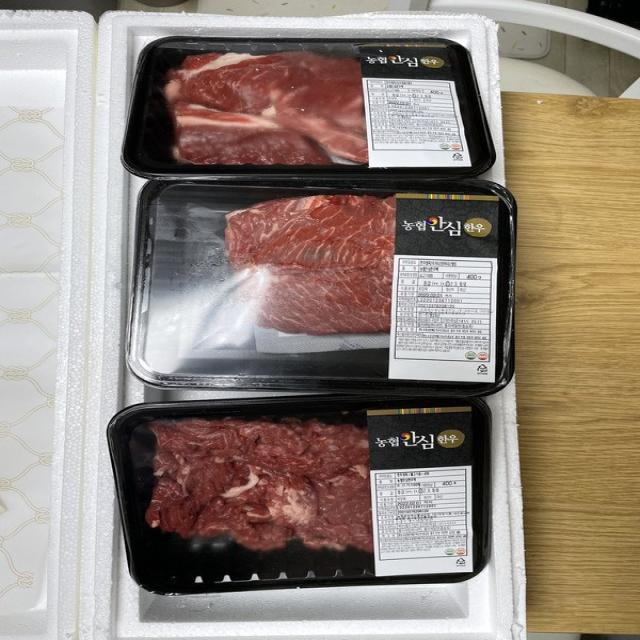beef: (187, 188, 496, 376), (159, 397, 472, 573), (156, 41, 468, 178)
